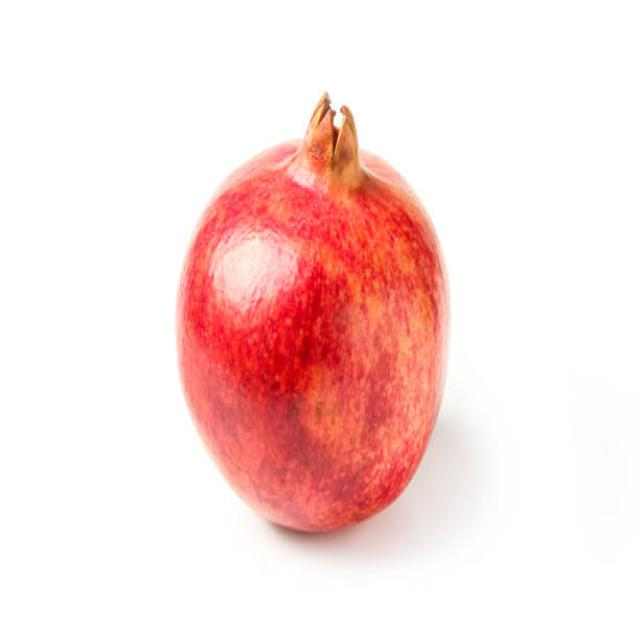Ripe: (170, 87, 453, 539)
